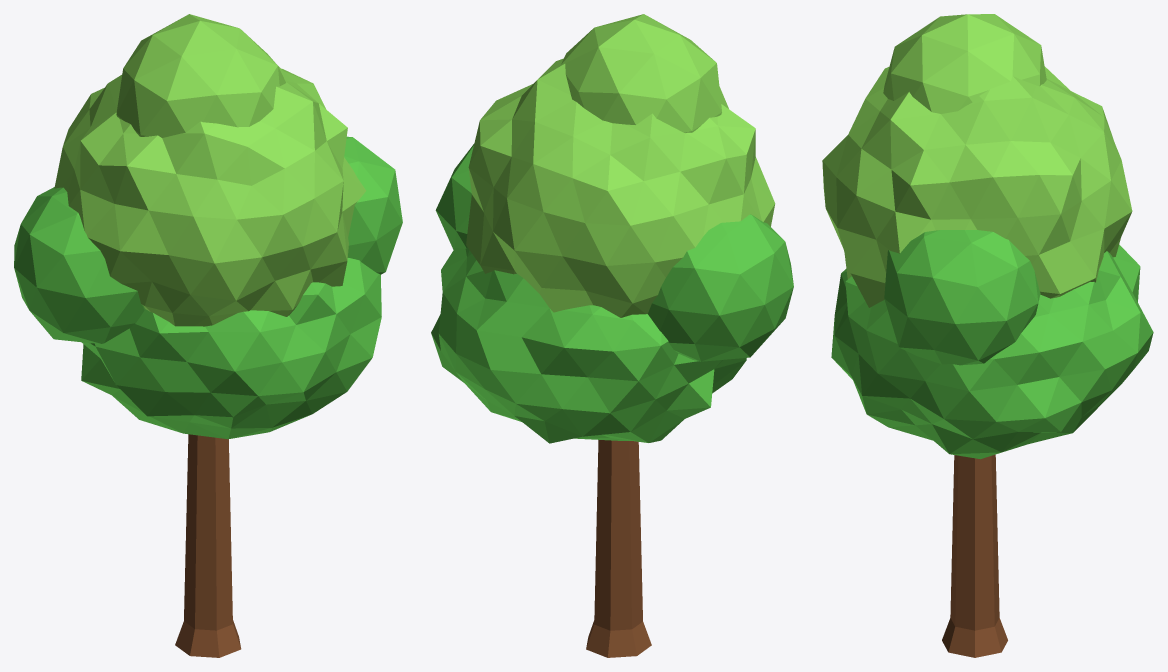
File: tree_round_b.glb
The picture shows the model from 3 angles, left to right: view 1: azimuth 30°, elevation 25°; view 2: azimuth 150°, elevation 25°; view 3: azimuth 270°, elevation 25°; orthographic projection.
Parts seen in each view (by area): view 1: tree_round_b; view 2: tree_round_b; view 3: tree_round_b.
Part boxes in pixels (left/top/right/bottom): tree_round_b: left=14, top=14, right=402, bottom=657; tree_round_b: left=431, top=14, right=793, bottom=657; tree_round_b: left=822, top=14, right=1153, bottom=657.
Size of the model in its own units: 5.38 by 9.26 by 4.46.
